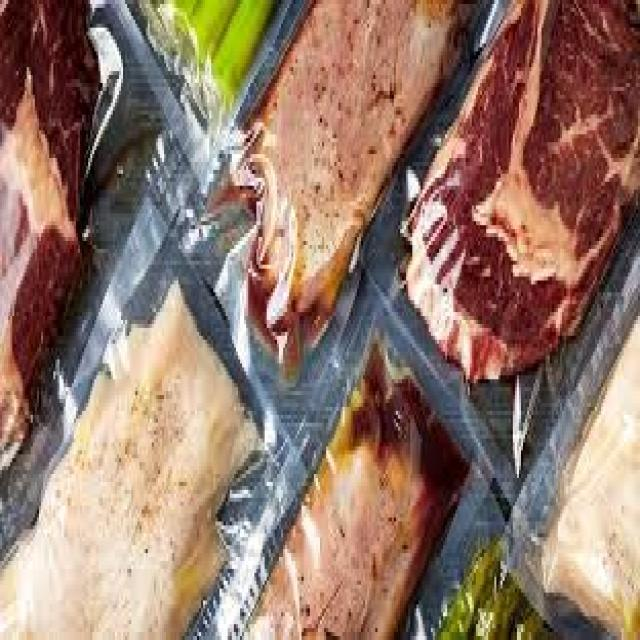Wet: (98, 303, 396, 640), (401, 3, 640, 365)
